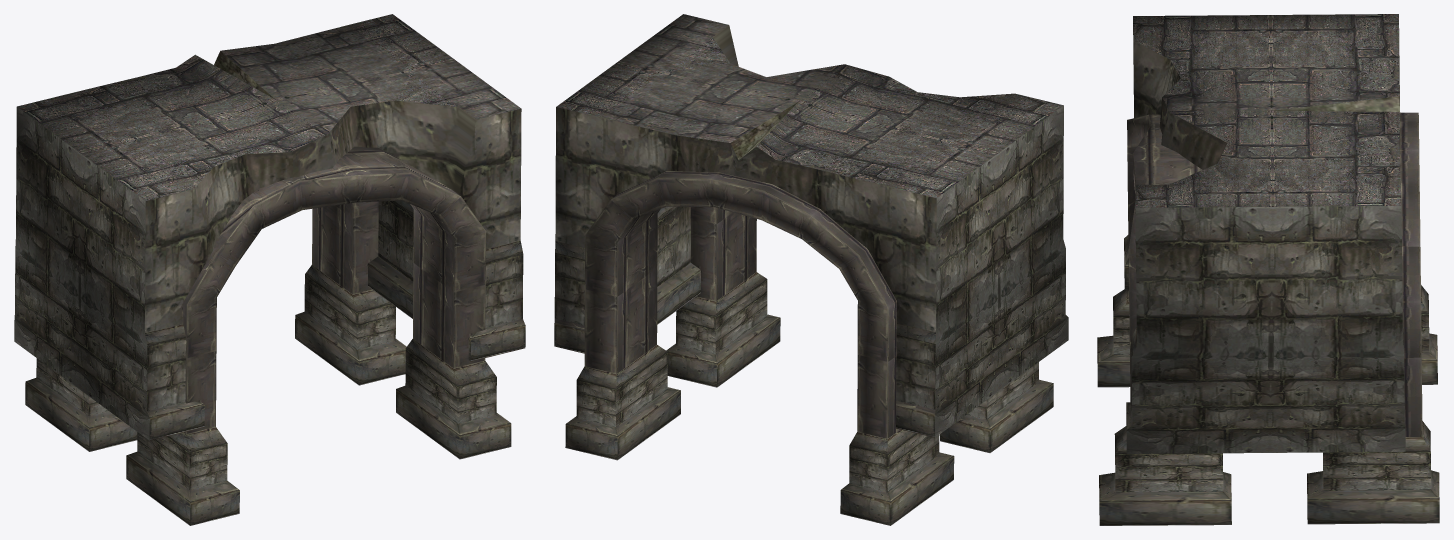
Rendered from S_Build_Muxue028.FBX.
3 views of the same model, side by side, from view 1: azimuth 30°, elevation 25°; view 2: azimuth 150°, elevation 25°; view 3: azimuth 270°, elevation 25° (orthographic). The views are drawn at different scales.
Parts seen in each view (by area): view 1: S_Build_Muxue028; view 2: S_Build_Muxue028; view 3: S_Build_Muxue028.
Boxes of the visible parts, x1=… form: S_Build_Muxue028: x1=14, y1=14, x2=525, y2=525; S_Build_Muxue028: x1=554, y1=14, x2=1068, y2=525; S_Build_Muxue028: x1=1097, y1=14, x2=1439, y2=525.
Size of the model in its own units: 1105 by 831 by 916.
